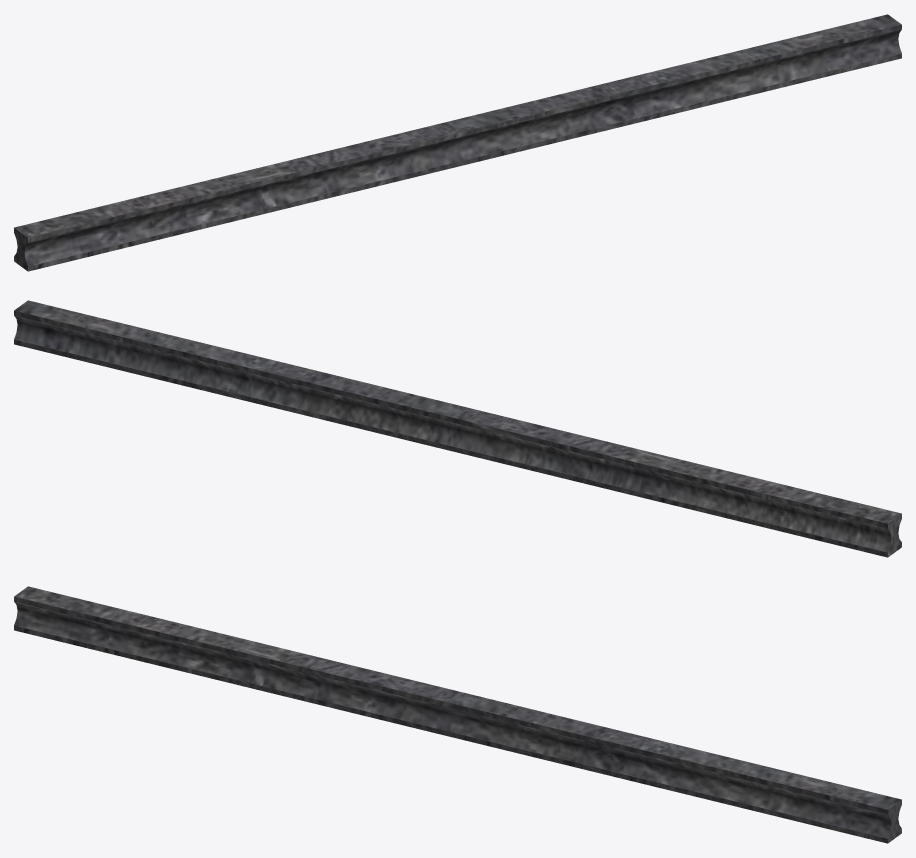
The model's file is Barra.obj.
3 views of the same model, one above another, from view 1: azimuth 30°, elevation 25°; view 2: azimuth 150°, elevation 25°; view 3: azimuth 330°, elevation 25° (orthographic).
Size of the model in its own units: 468 by 17.31 by 13.05.
1 material, 1 textured.
